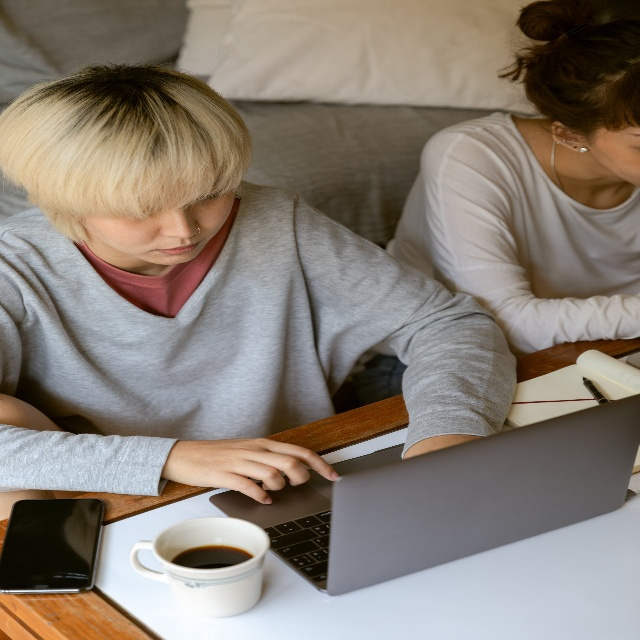Sin_guantes: (170, 438, 340, 505)
